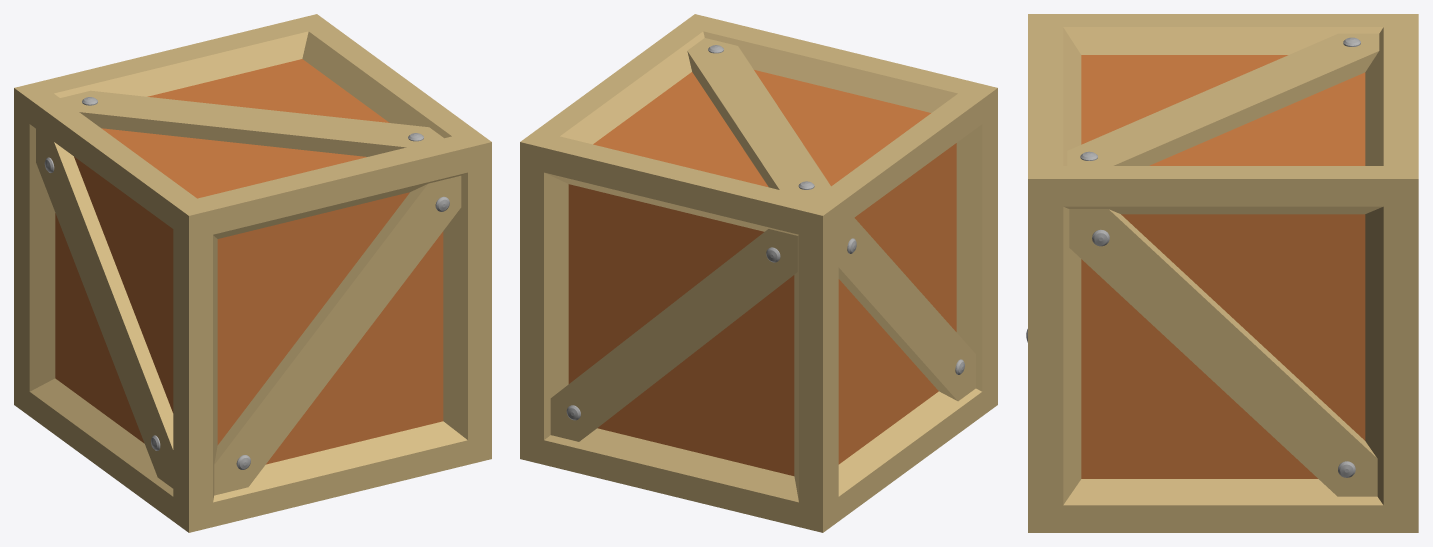
File: crate.fbx
3 views of the same model, side by side, from view 1: azimuth 30°, elevation 25°; view 2: azimuth 150°, elevation 25°; view 3: azimuth 270°, elevation 25° (orthographic). The views are drawn at different scales.
Parts seen in each view (by area): view 1: Cube; view 2: Cube; view 3: Cube.
Part boxes in pixels (x1,y1,x2,y2): Cube: (14,14,491,532); Cube: (520,14,997,532); Cube: (1026,14,1418,532).
Bounding box in the file's own units: 200 × 200 × 201.
